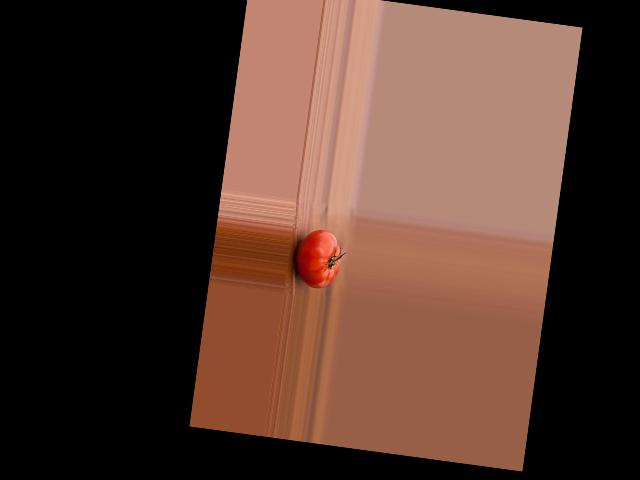tomato: (292, 225, 344, 290)
